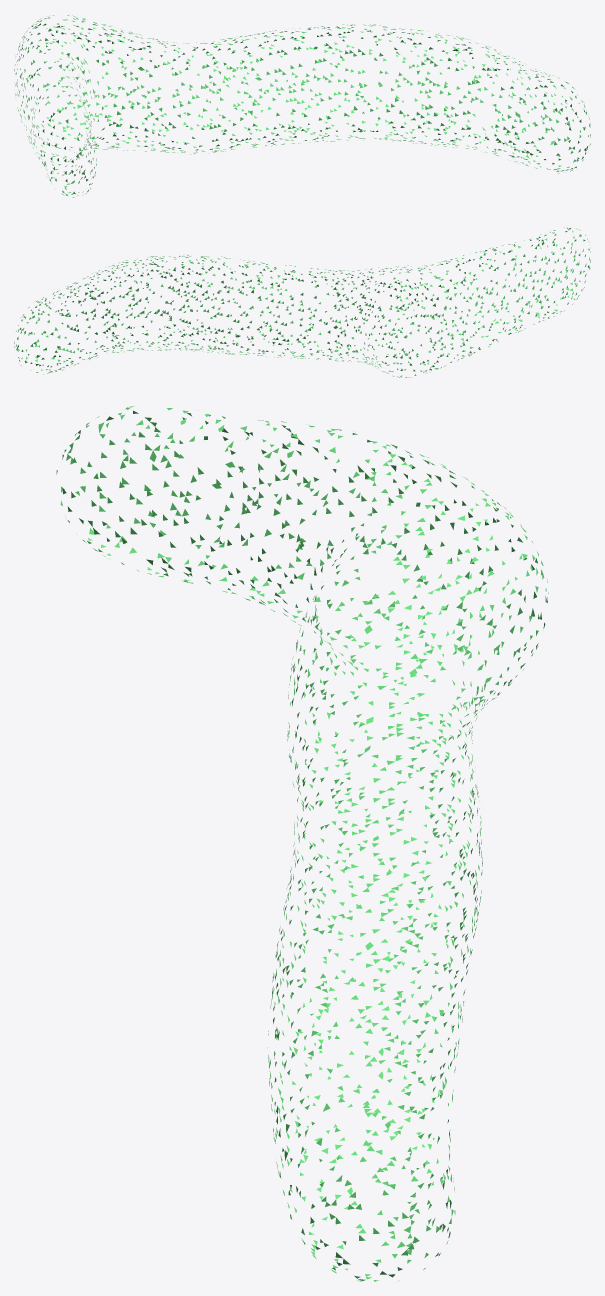
Rendered from morph_019.glb.
3 views of the same model, one above another, from view 1: azimuth 30°, elevation 25°; view 2: azimuth 150°, elevation 25°; view 3: azimuth 270°, elevation 25° (orthographic). The views are drawn at different scales.
Bounding box in the file's own units: 112 × 46.8 × 48.57.
